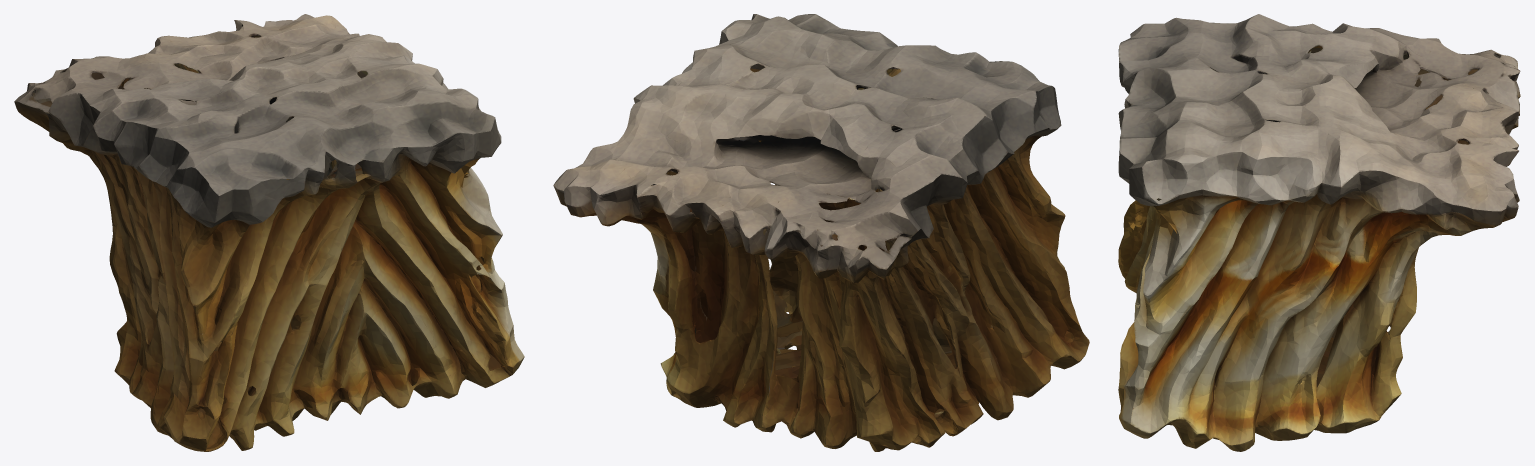
3 renders of one model, left to right at view 1: azimuth 30°, elevation 25°; view 2: azimuth 150°, elevation 25°; view 3: azimuth 270°, elevation 25°, orthographic. The views are drawn at different scales.
Parts seen in each view (by area): view 1: world; view 2: world; view 3: world.
Boxes of the visible parts, box(x1,y1,x2,y2) form: world: box(14, 14, 524, 451); world: box(553, 14, 1089, 451); world: box(1118, 14, 1520, 451).
Bounding box in the file's own units: 0.5335 × 0.45 × 0.535.
Materials: 1 (1 with a texture image).
